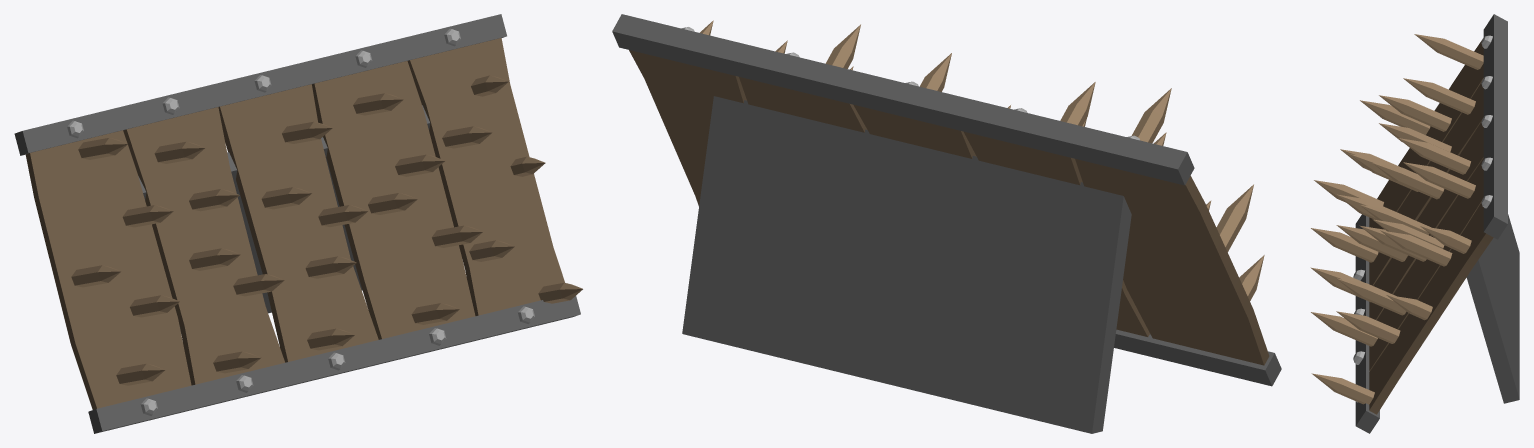
File: env_SpikeBarricade.fbx
The picture shows the model from 3 angles, left to right: view 1: azimuth 30°, elevation 25°; view 2: azimuth 150°, elevation 25°; view 3: azimuth 270°, elevation 25°; orthographic projection. The views are drawn at different scales.
Visible parts, largest first — view 1: env_SpikeBarricade_01; view 2: env_SpikeBarricade_01; view 3: env_SpikeBarricade_01.
Part boxes in pixels (box(x1,y1,x2,y2)): env_SpikeBarricade_01: box(14, 14, 582, 433); env_SpikeBarricade_01: box(612, 14, 1281, 433); env_SpikeBarricade_01: box(1310, 14, 1519, 433).
Bounding box in the file's own units: 194 × 98.89 × 84.39.
